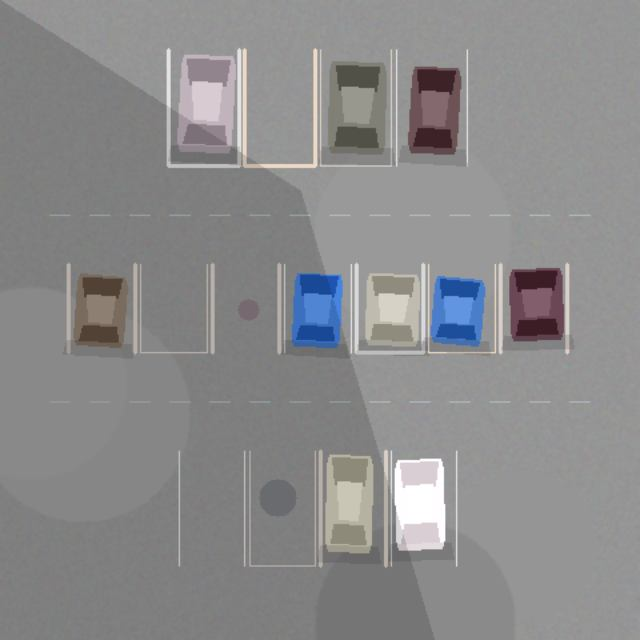space-empty: (244, 49, 315, 165), (249, 451, 315, 565), (179, 451, 244, 565), (140, 264, 207, 352), (212, 264, 279, 352)
space-occupied: (168, 49, 239, 165), (320, 49, 391, 165), (396, 49, 467, 165), (320, 451, 385, 565), (391, 451, 456, 565), (68, 264, 135, 352), (284, 264, 351, 352), (356, 264, 423, 352), (428, 264, 495, 352), (500, 264, 567, 352)
